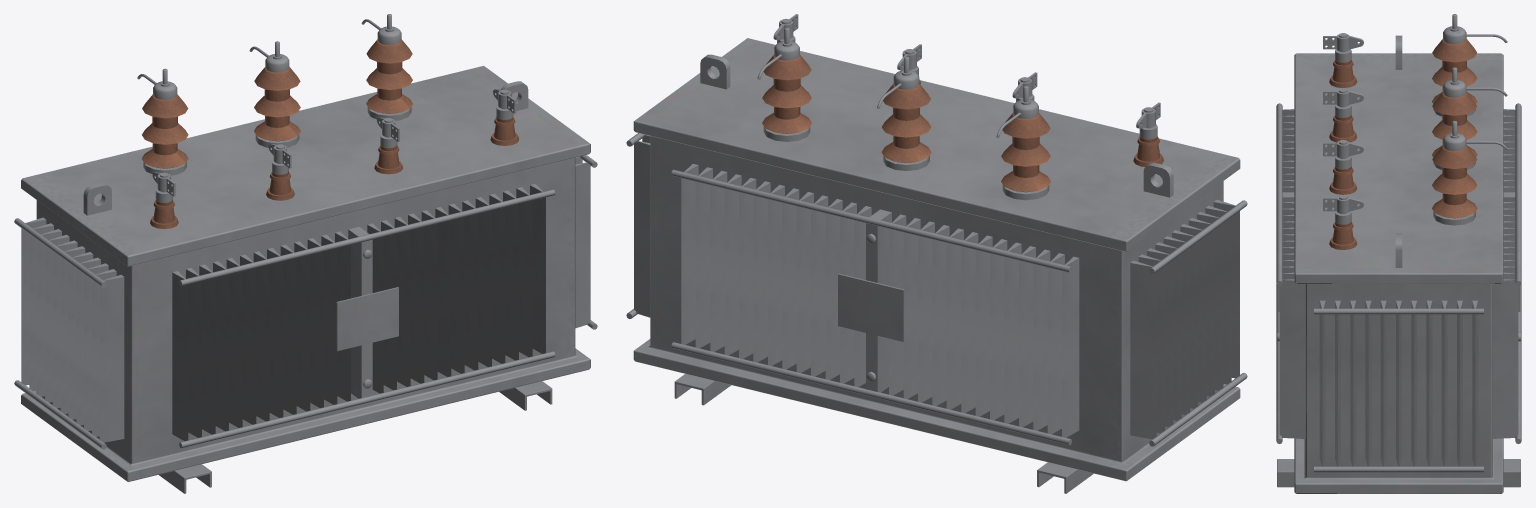
File: transformateur.glb
The picture shows the model from 3 angles, left to right: view 1: azimuth 30°, elevation 25°; view 2: azimuth 150°, elevation 25°; view 3: azimuth 270°, elevation 25°; orthographic projection. The views are drawn at different scales.
Parts seen in each view (by area): view 1: Transformer; view 2: Transformer; view 3: Transformer.
Part boxes in pixels (x1,y1,x2,y2): Transformer: (14,14,597,493); Transformer: (626,14,1247,493); Transformer: (1276,14,1521,493).
Bounding box in the file's own units: 3.81 × 2.5 × 1.67.
1 material, 1 textured.
